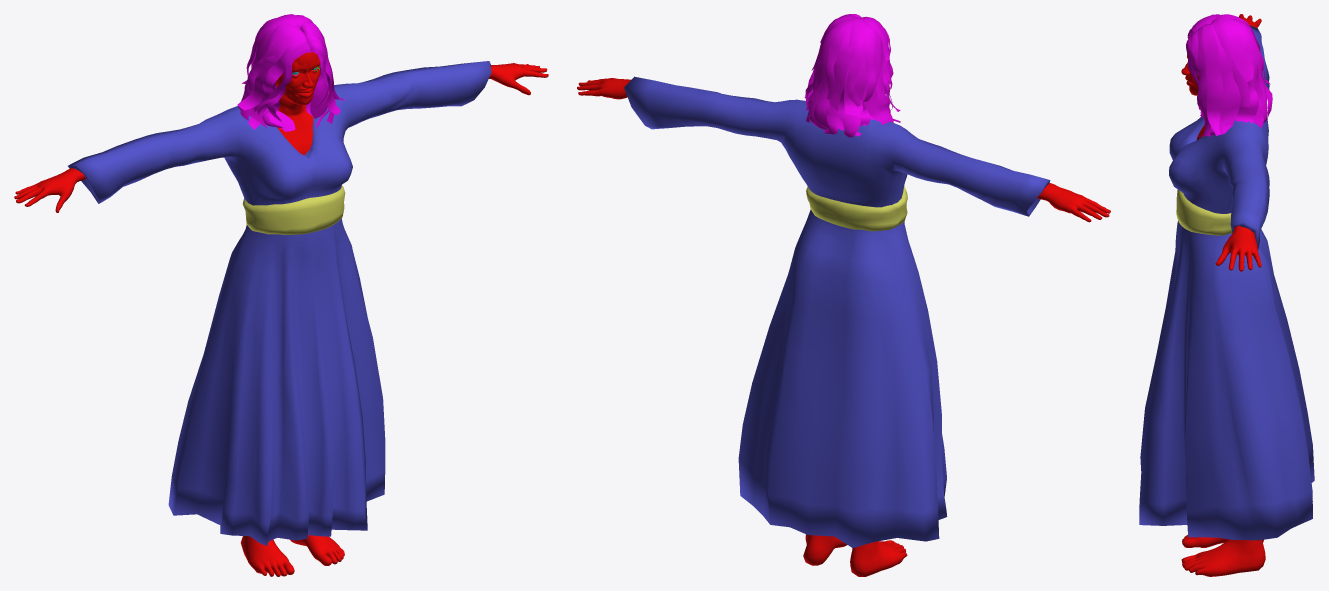
Rendered from Ghostly Woman.fbx.
3 renders of one model, left to right at view 1: azimuth 30°, elevation 25°; view 2: azimuth 150°, elevation 25°; view 3: azimuth 270°, elevation 25°, orthographic.
Visible parts, largest first — view 1: Womann:Tops, Womann:Body, Womann:Hair; view 2: Womann:Tops, Womann:Hair, Womann:Body; view 3: Womann:Tops, Womann:Hair, Womann:Body.
Boxes of the visible parts, bbox=[...] form: Womann:Tops: bbox=[68, 61, 491, 545]; Womann:Body: bbox=[14, 52, 548, 576]; Womann:Hair: bbox=[237, 14, 344, 131]; Womann:Tops: bbox=[624, 76, 1050, 547]; Womann:Hair: bbox=[804, 14, 900, 137]; Womann:Body: bbox=[577, 78, 1110, 576]; Womann:Tops: bbox=[1139, 25, 1314, 540]; Womann:Hair: bbox=[1186, 14, 1272, 136]; Womann:Body: bbox=[1181, 14, 1265, 576].
Bounding box in the file's own units: 182 × 177 × 52.25.
